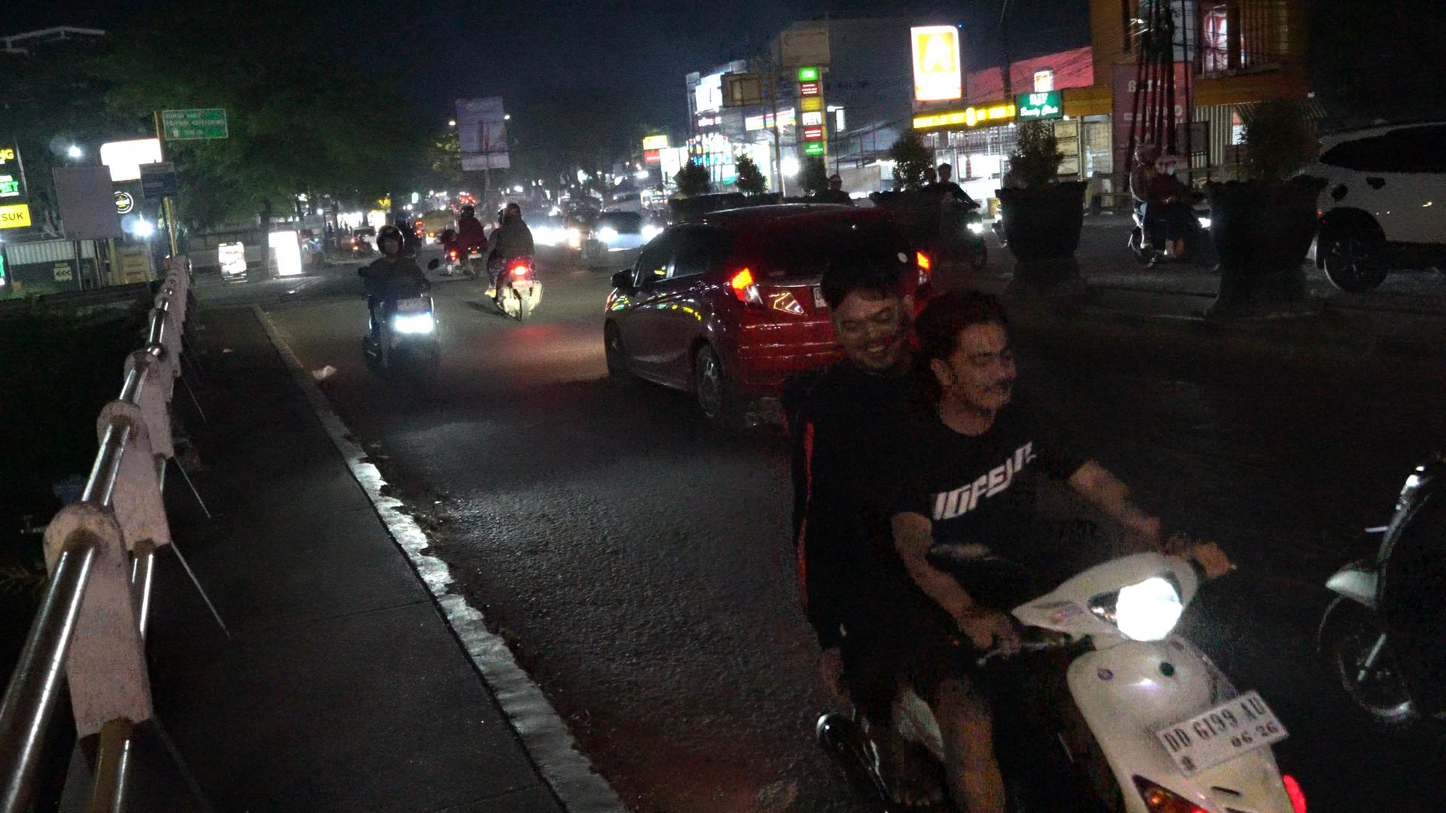number-plate: (1155, 688, 1293, 774)
